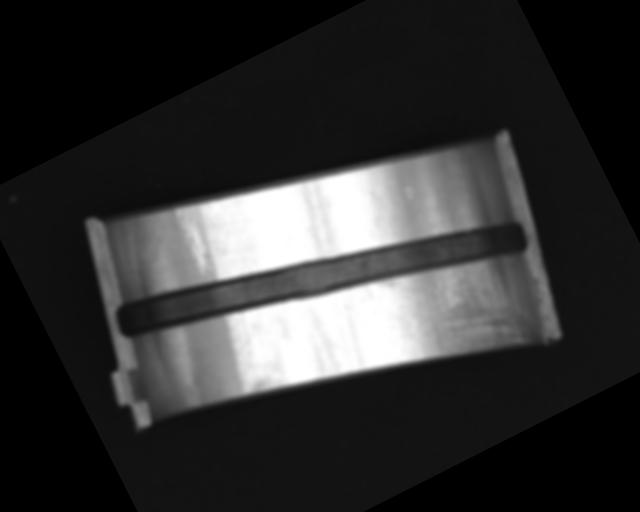bruise: (401, 185, 415, 200)
gap: (108, 128, 532, 431)
nick: (166, 201, 219, 279), (227, 309, 262, 356)
scratch: (372, 224, 544, 395)
